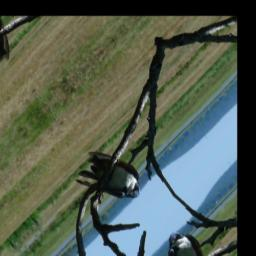Swallow: (66, 133, 152, 227)
